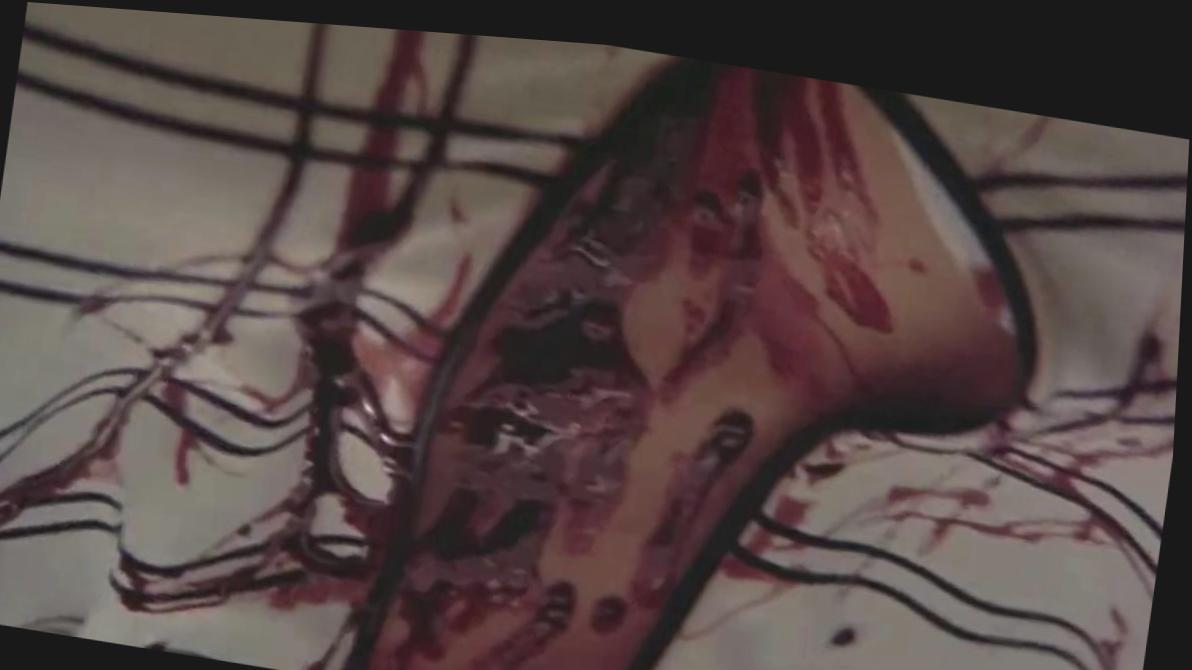Fire: (0, 18, 1188, 670), (990, 99, 1057, 157)
